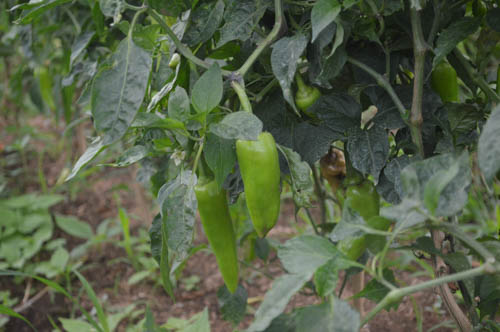ChiliPepper: (192, 184, 240, 292), (239, 135, 280, 235), (336, 184, 380, 274)
